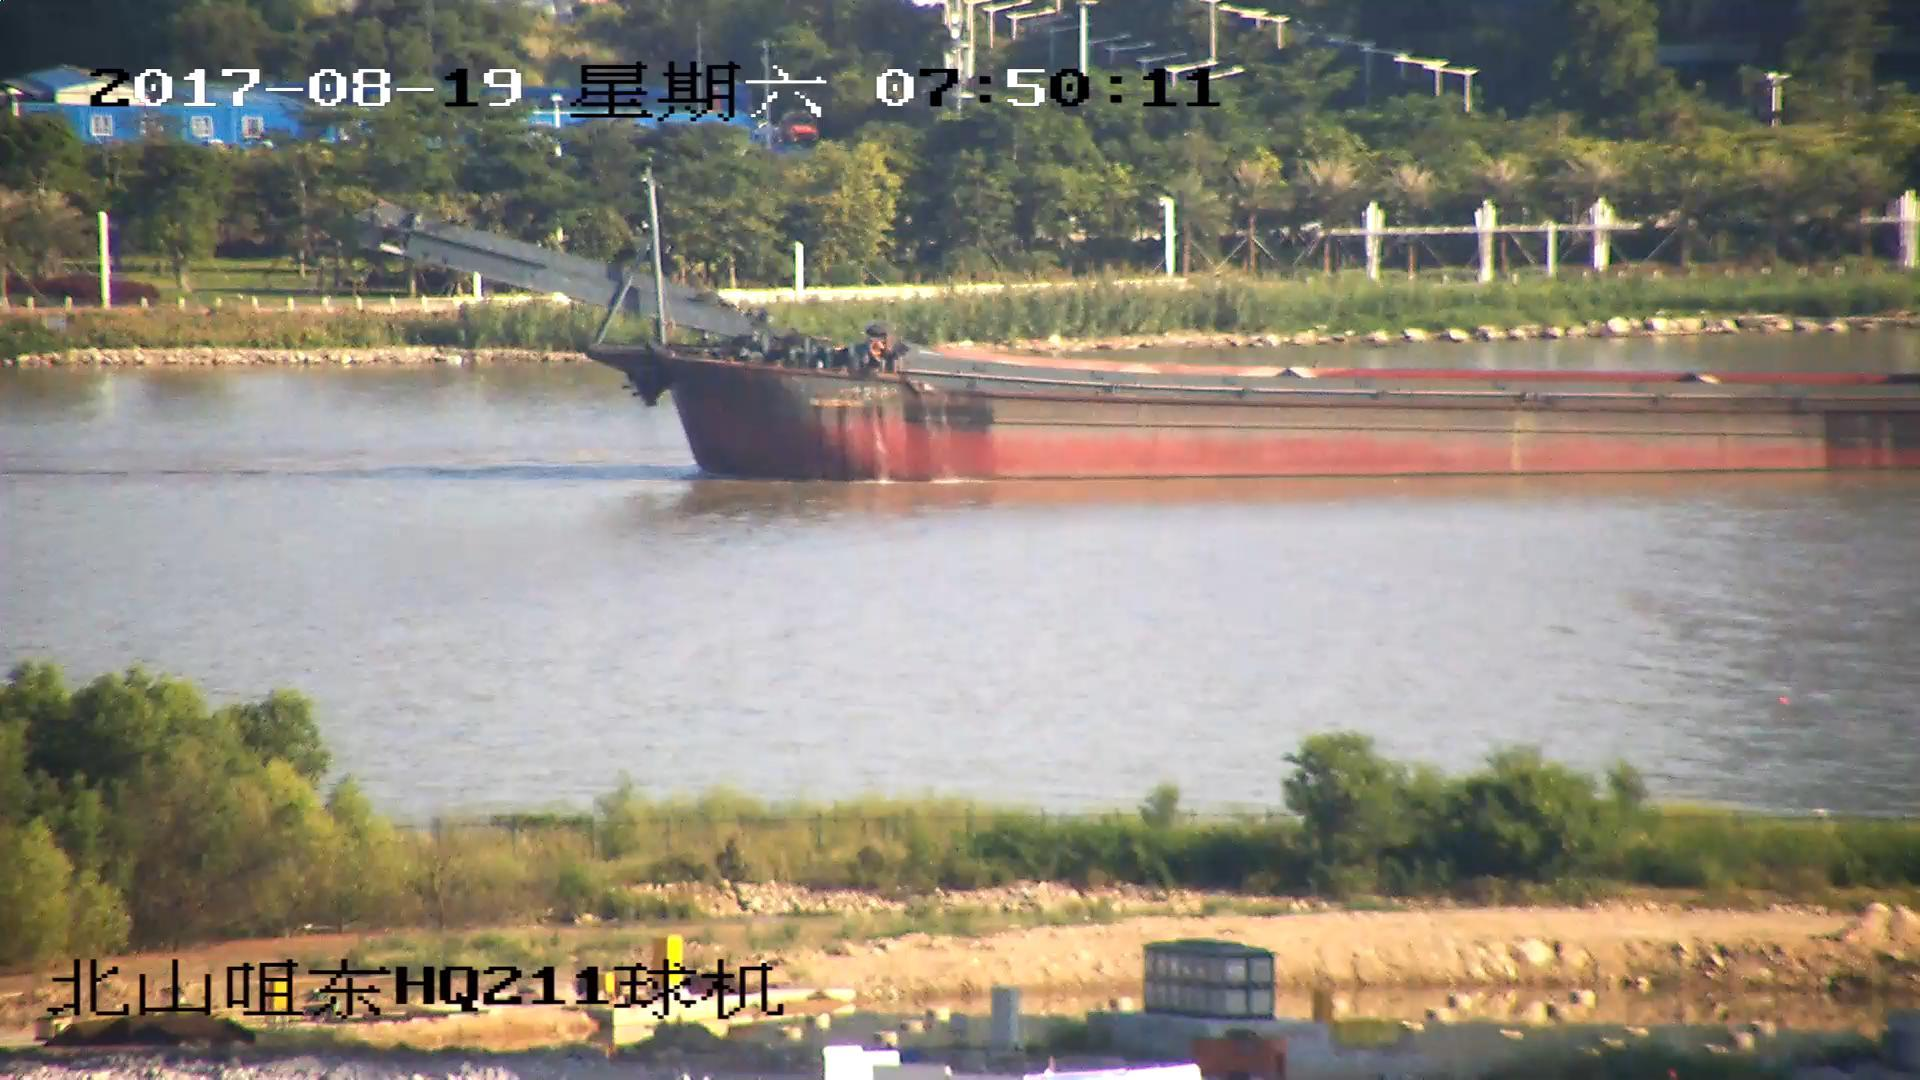Ship: (360, 198, 1920, 484)
